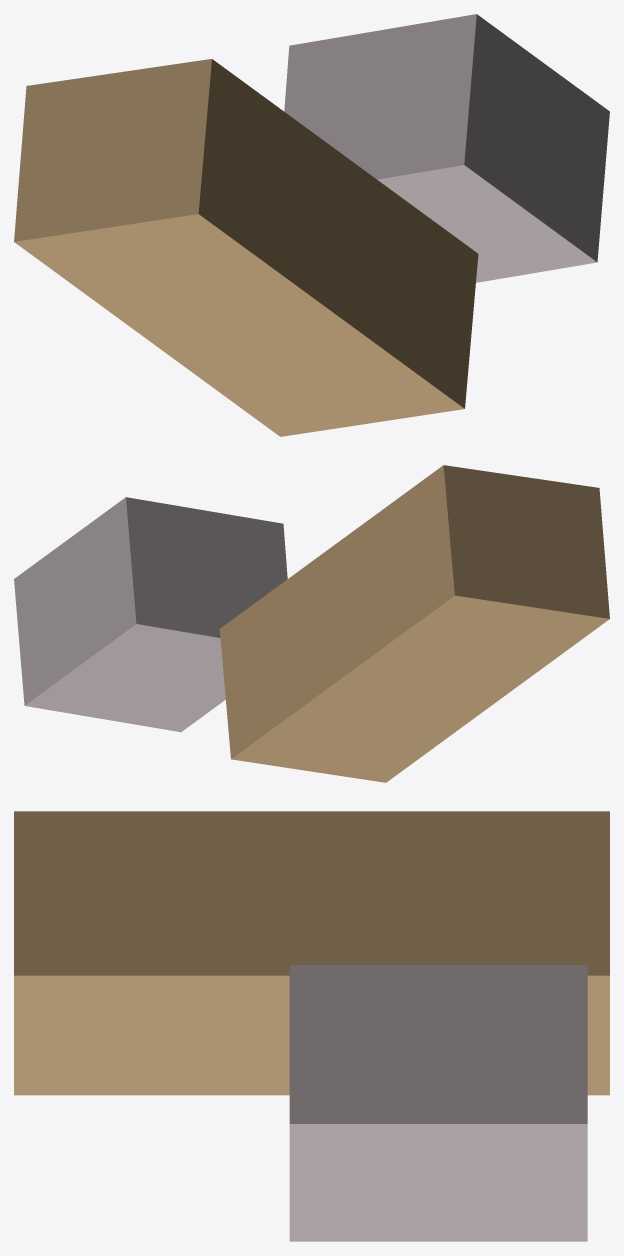
The picture shows the model from 3 angles, top to bottom: view 1: azimuth 30°, elevation 25°; view 2: azimuth 150°, elevation 25°; view 3: azimuth 270°, elevation 25°; orthographic projection. The views are drawn at different scales.
Parts seen in each view (by area): view 1: 0_0_3_2_0_0_1_3_1_1; view 2: 0_0_3_2_0_0_1_3_1_1; view 3: 0_0_3_2_0_0_1_3_1_1.
Part boxes in pixels (<box>): 0_0_3_2_0_0_1_3_1_1: <box>14,14,609,436</box>; 0_0_3_2_0_0_1_3_1_1: <box>14,465,609,782</box>; 0_0_3_2_0_0_1_3_1_1: <box>14,811,609,1241</box>.
Bounding box in the file's own units: 23.55 × 8.75 × 24.
